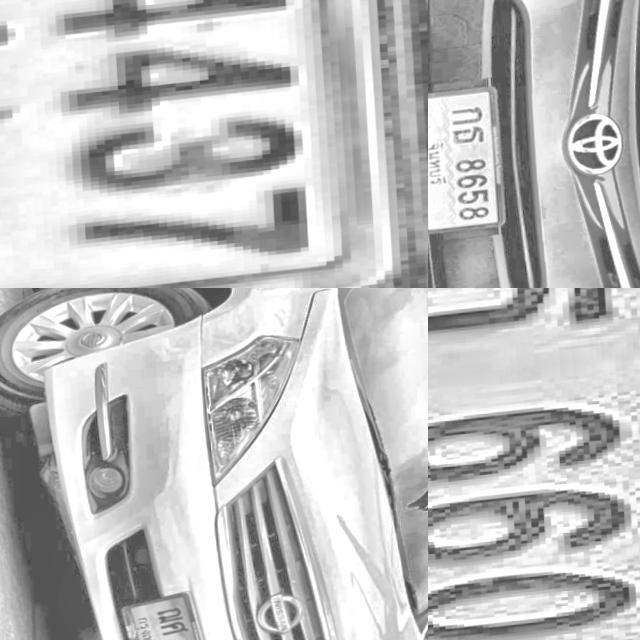license-plate: (0, 0, 428, 288), (428, 288, 640, 640), (428, 79, 508, 243), (115, 591, 216, 640)
